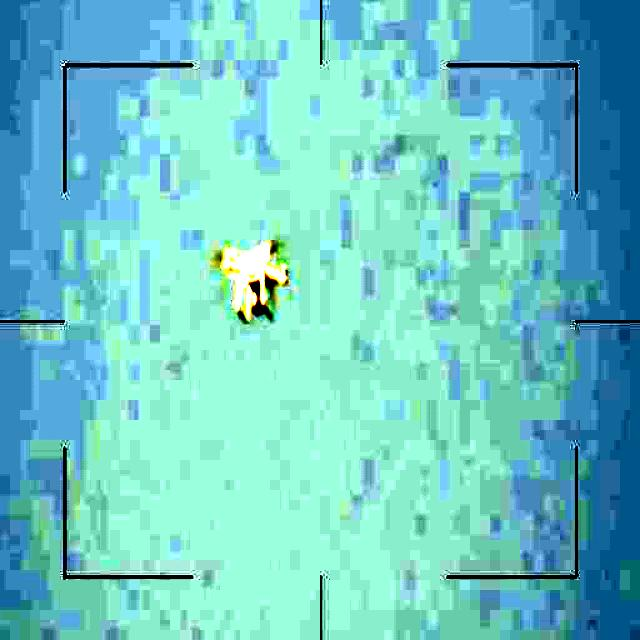bird: (212, 234, 292, 329)
